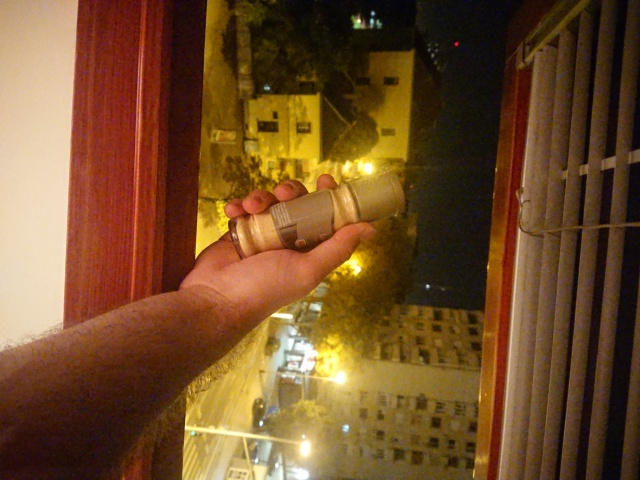Kotanyi Garlic Granules 70g: (226, 164, 408, 266)
